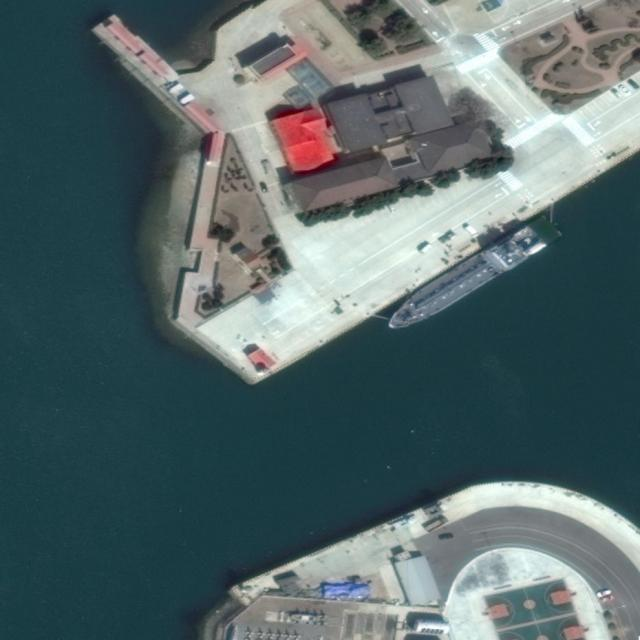Landing: (383, 212, 560, 341)
